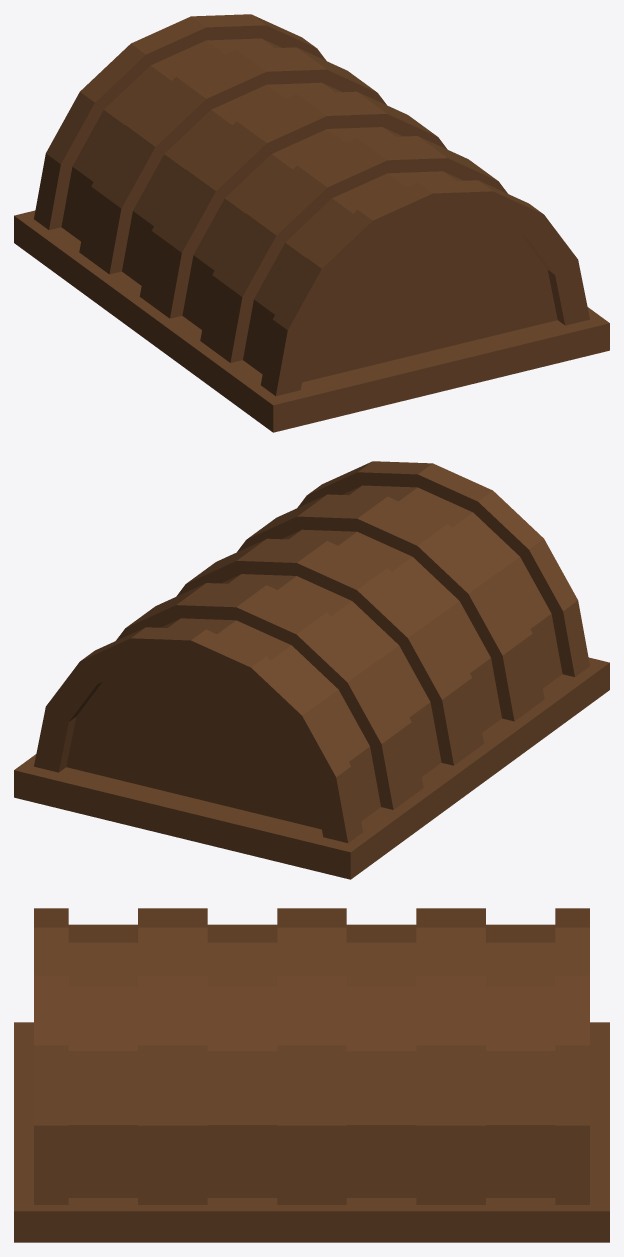
File: chest_lid.obj
3 renders of one model, top to bottom at view 1: azimuth 30°, elevation 25°; view 2: azimuth 150°, elevation 25°; view 3: azimuth 270°, elevation 25°, orthographic. The views are drawn at different scales.
Parts seen in each view (by area): view 1: chest_lid; view 2: chest_lid; view 3: chest_lid.
Part boxes in pixels (box(x1,y1,x2,y2)): chest_lid: box(14, 14, 609, 432); chest_lid: box(14, 461, 609, 879); chest_lid: box(14, 908, 609, 1242).
Bounding box in the file's own units: 0.6428 × 0.35 × 0.8571.
